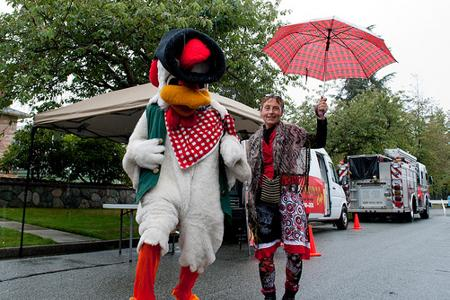person: (246, 94, 329, 300)
